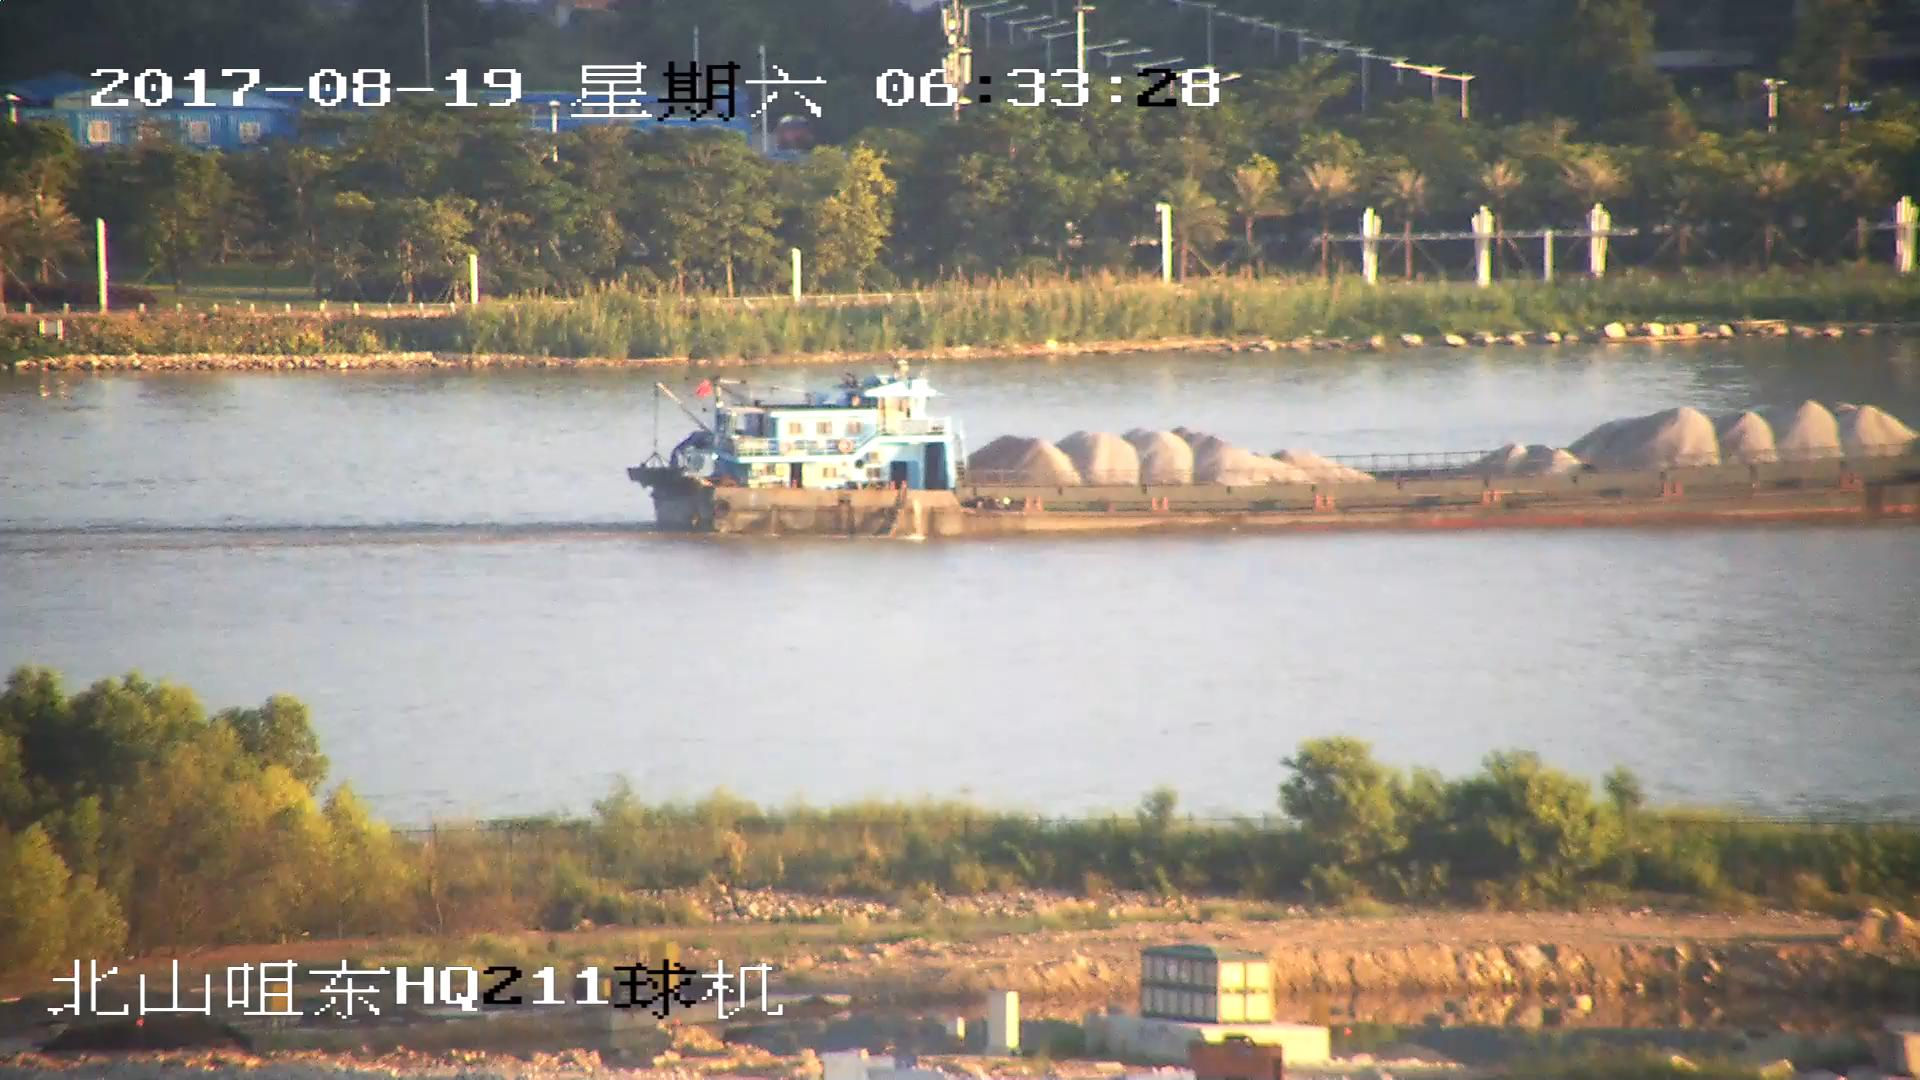ore carrier: (624, 360, 1920, 543)
